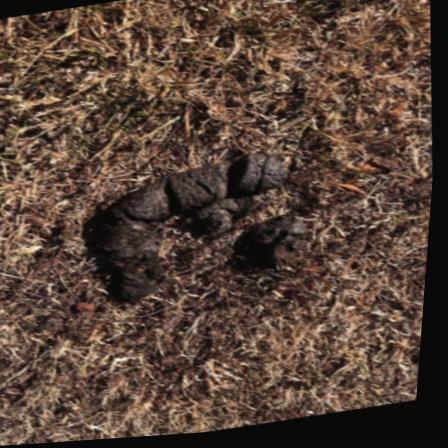dog-poop: (75, 155, 316, 315)
